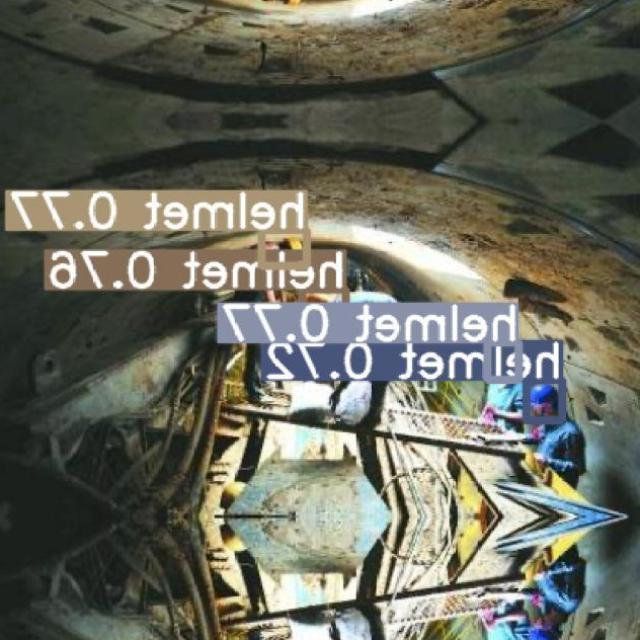helmet: (531, 383, 559, 405)
